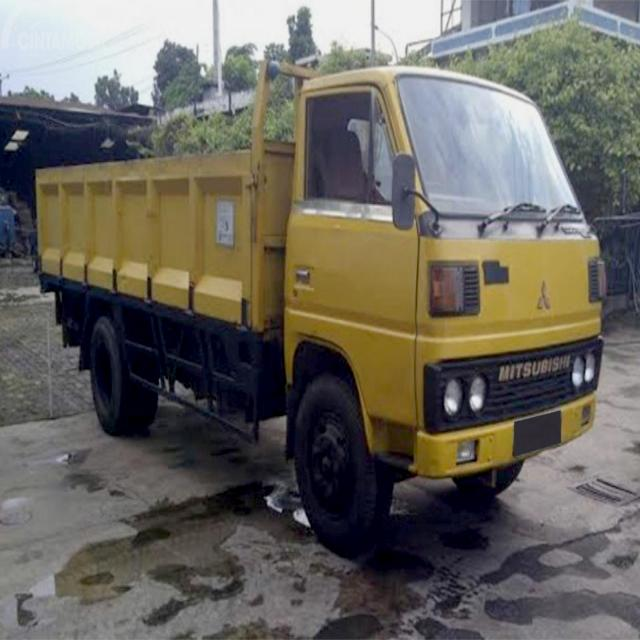truck: (37, 63, 612, 532)
